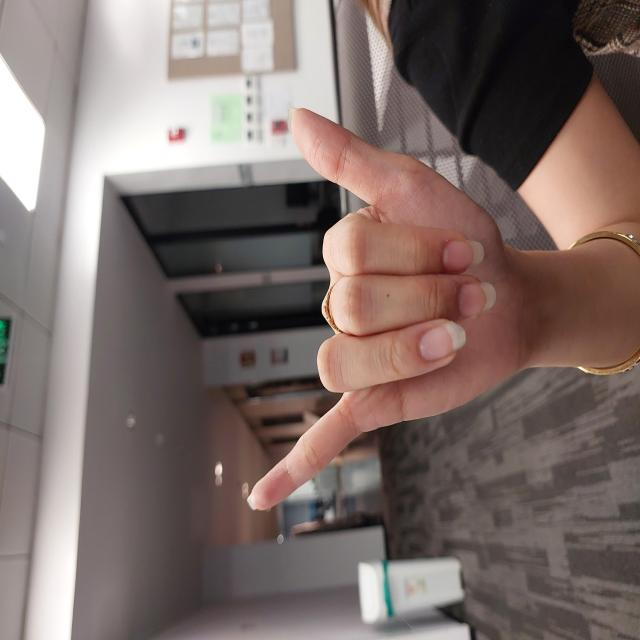Y: (127, 246, 539, 538)
